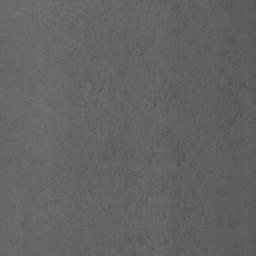Silk spot: (219, 106, 242, 135), (171, 140, 185, 167), (168, 80, 183, 98), (176, 212, 190, 227)
